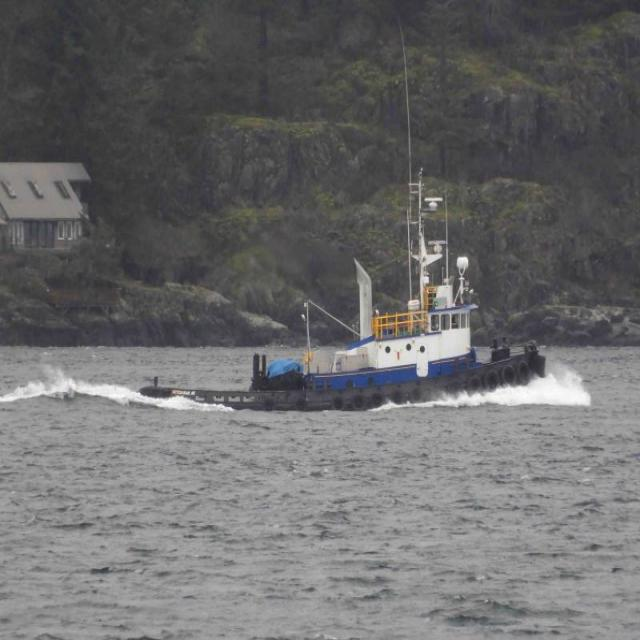fishing boat: (136, 193, 552, 409)
